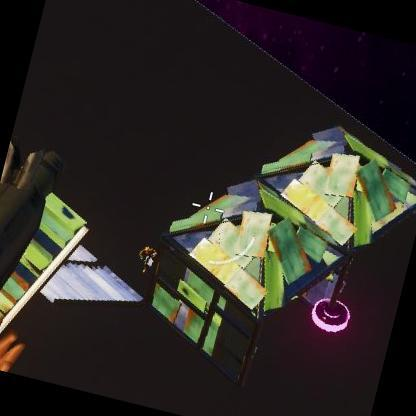person: (136, 243, 160, 279)
